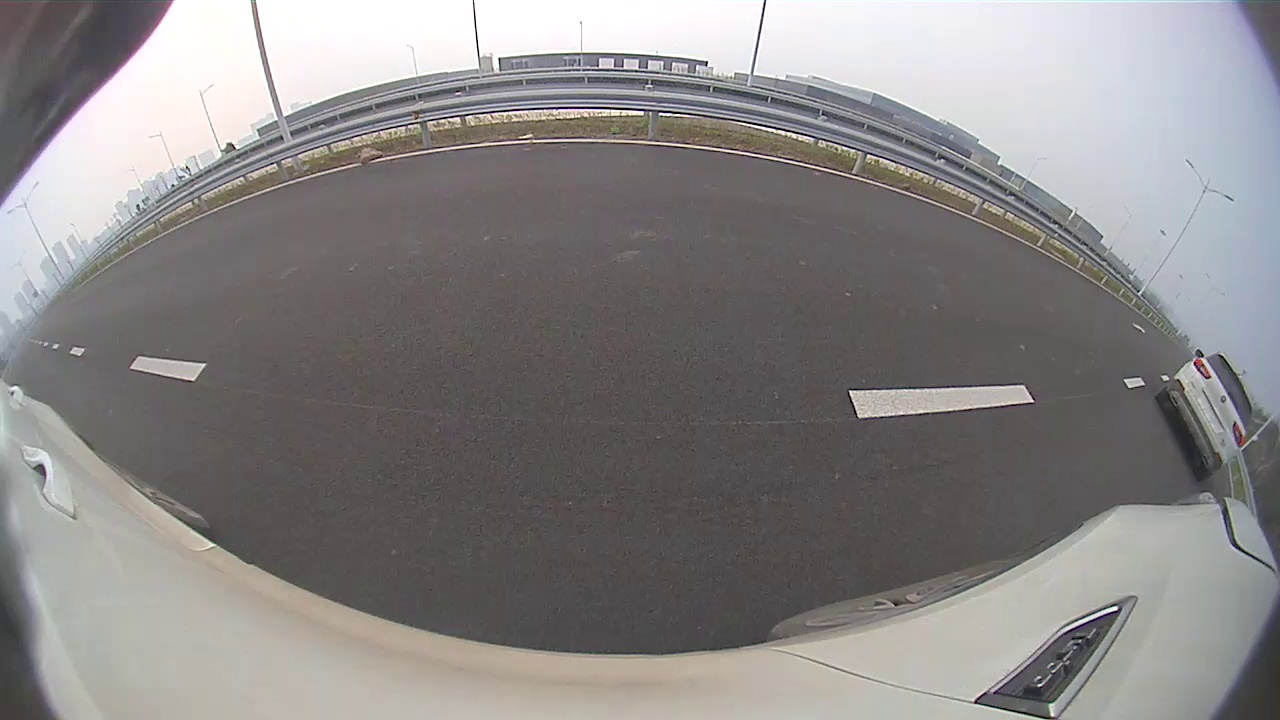car: (679, 155, 718, 188)
